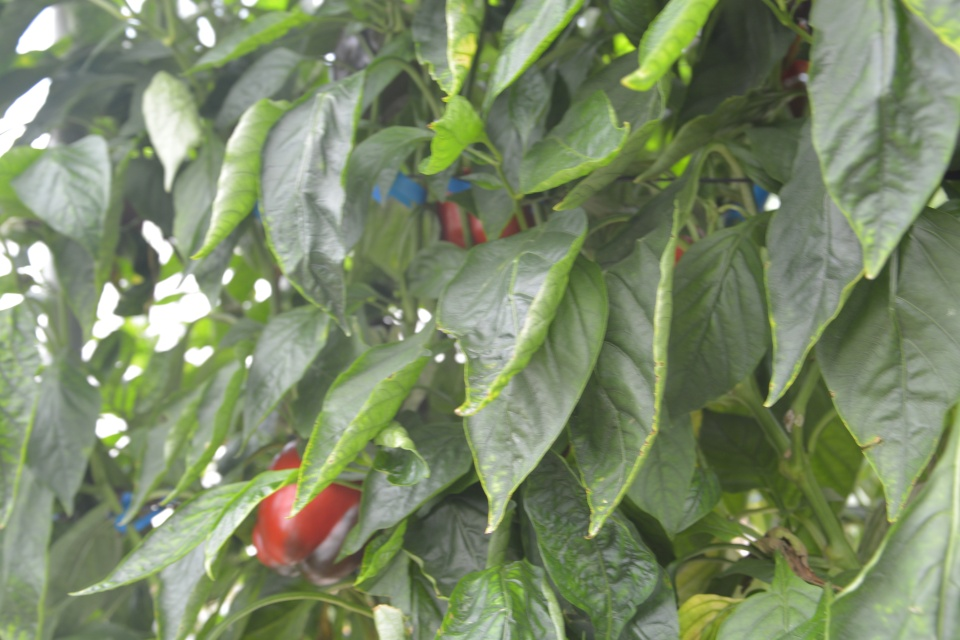fruit: (251, 440, 360, 584), (332, 19, 420, 120), (438, 165, 520, 250)
